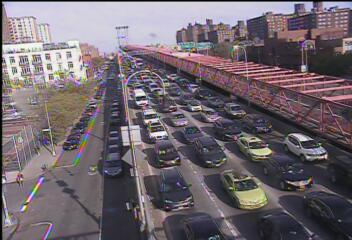neg: (56, 39, 104, 102), (203, 82, 239, 131), (265, 99, 298, 143), (135, 80, 162, 116), (102, 1, 127, 34), (183, 154, 207, 186), (276, 47, 299, 77), (34, 164, 57, 194), (67, 120, 88, 149), (93, 183, 112, 208)
